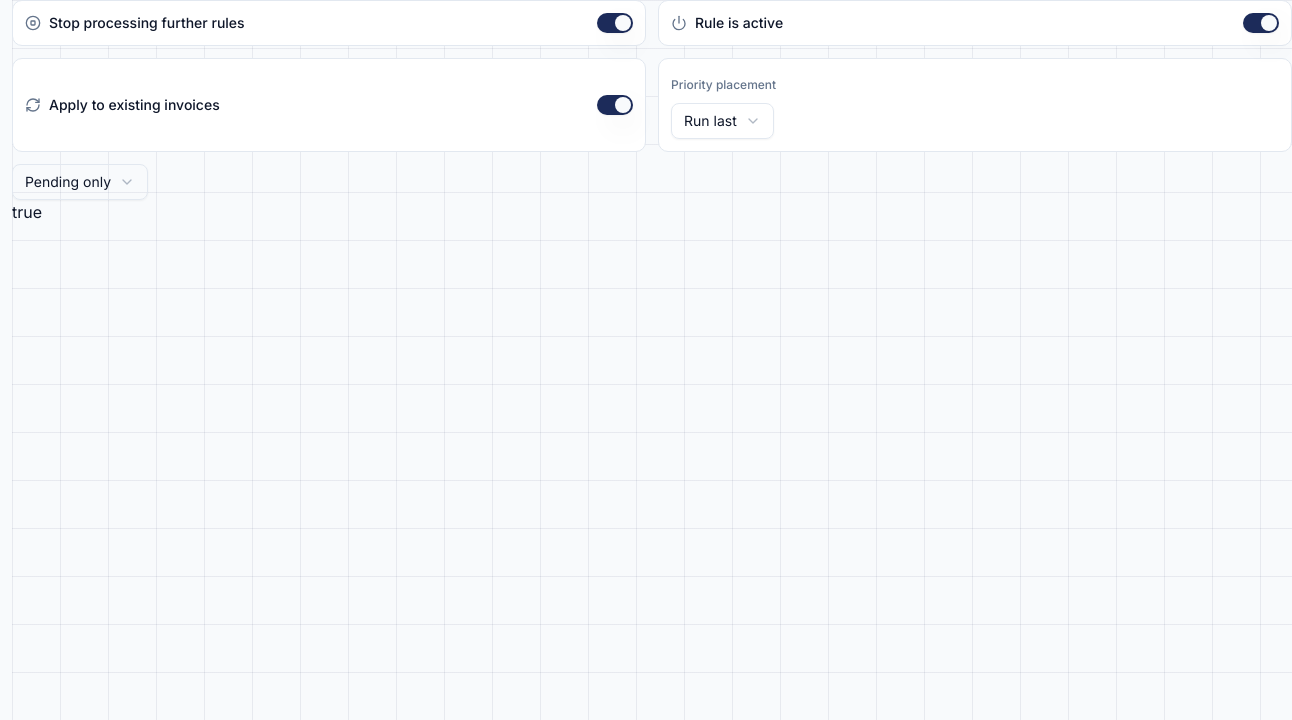
Test: RuleBuilderRunOptions › updates the apply-to-existing option
The width and height of the screenshot is (1292, 720).
Click the switch named "Apply to existing invoices" at (615,105), box left=597, top=95, right=633, bottom=115
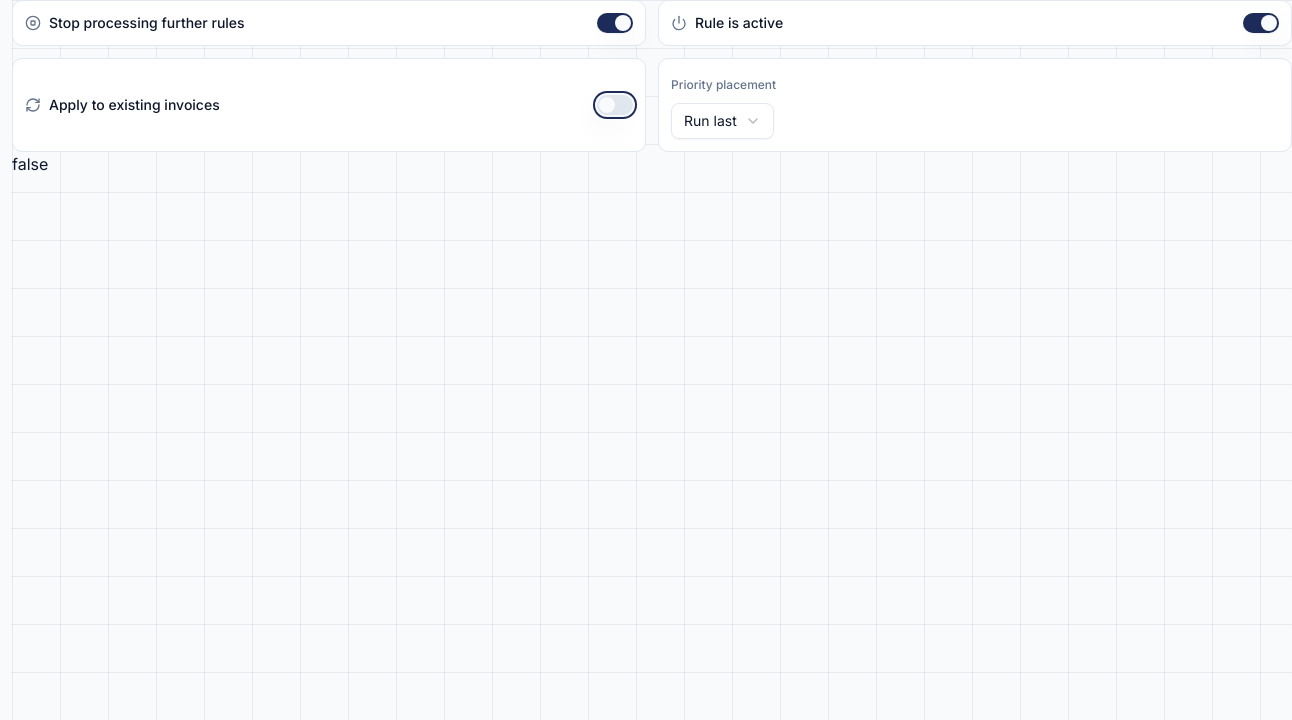
Expected: the text with test id "apply-existing" reads "false", left=12, top=154, right=48, bottom=174
